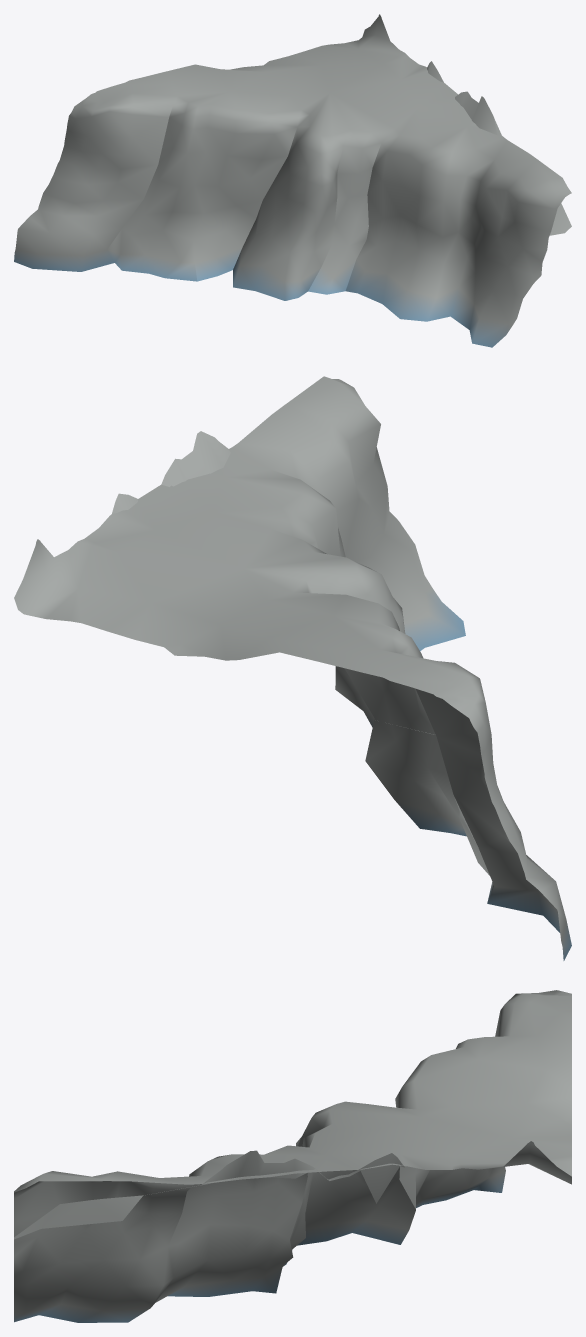
3 renders of one model, top to bottom at view 1: azimuth 30°, elevation 25°; view 2: azimuth 150°, elevation 25°; view 3: azimuth 270°, elevation 25°, orthographic. The views are drawn at different scales.
Parts seen in each view (by area): view 1: G:\FFXIV-MapTools\exports\w1f1\bg\ffxiv\wil_w1\fld\w1f1\bgpl (×3); view 2: G:\FFXIV-MapTools\exports\w1f1\bg\ffxiv\wil_w1\fld\w1f1\bgpl (×3); view 3: G:\FFXIV-MapTools\exports\w1f1\bg\ffxiv\wil_w1\fld\w1f1\bgpl (×3).
Boxes of the visible parts, x1,y1,x2,y2 form: G:\FFXIV-MapTools\exports\w1f1\bg\ffxiv\wil_w1\fld\w1f1\bgpl (×3): (14,14,571,347); G:\FFXIV-MapTools\exports\w1f1\bg\ffxiv\wil_w1\fld\w1f1\bgpl (×3): (14,376,571,960); G:\FFXIV-MapTools\exports\w1f1\bg\ffxiv\wil_w1\fld\w1f1\bgpl (×3): (14,990,571,1322).
Size of the model in its own units: 125 by 60.09 by 128.
